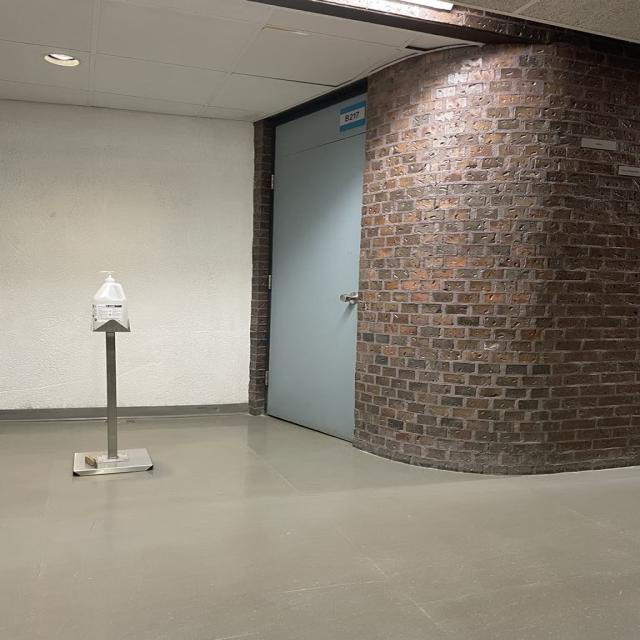door-knob: (340, 291, 360, 305)
